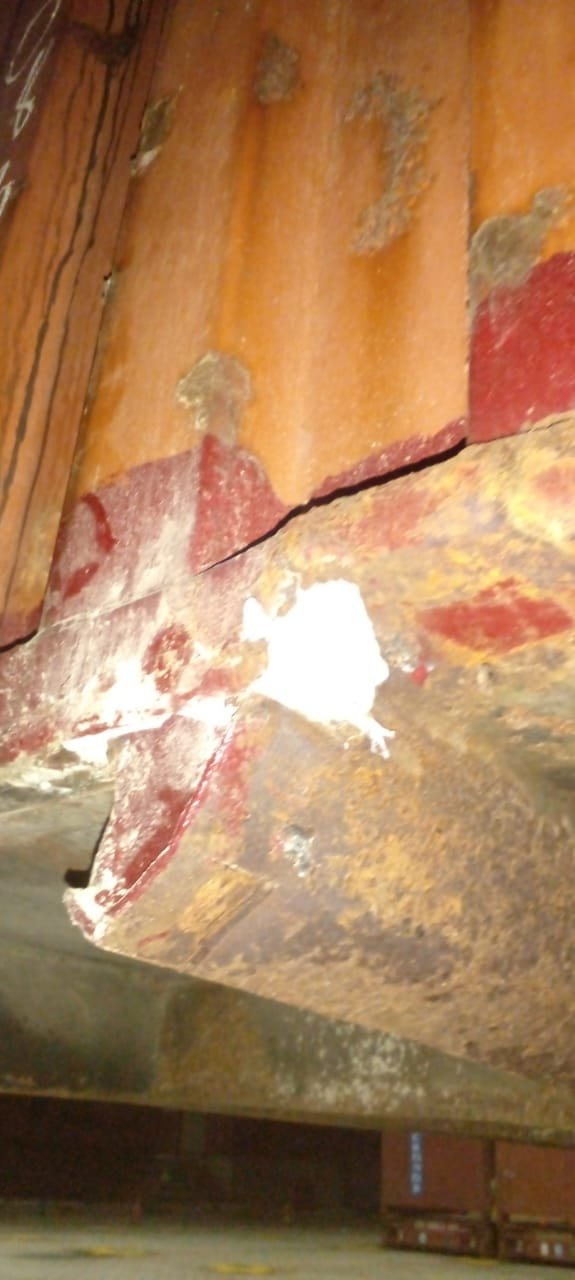moderate: (192, 357, 485, 610)
